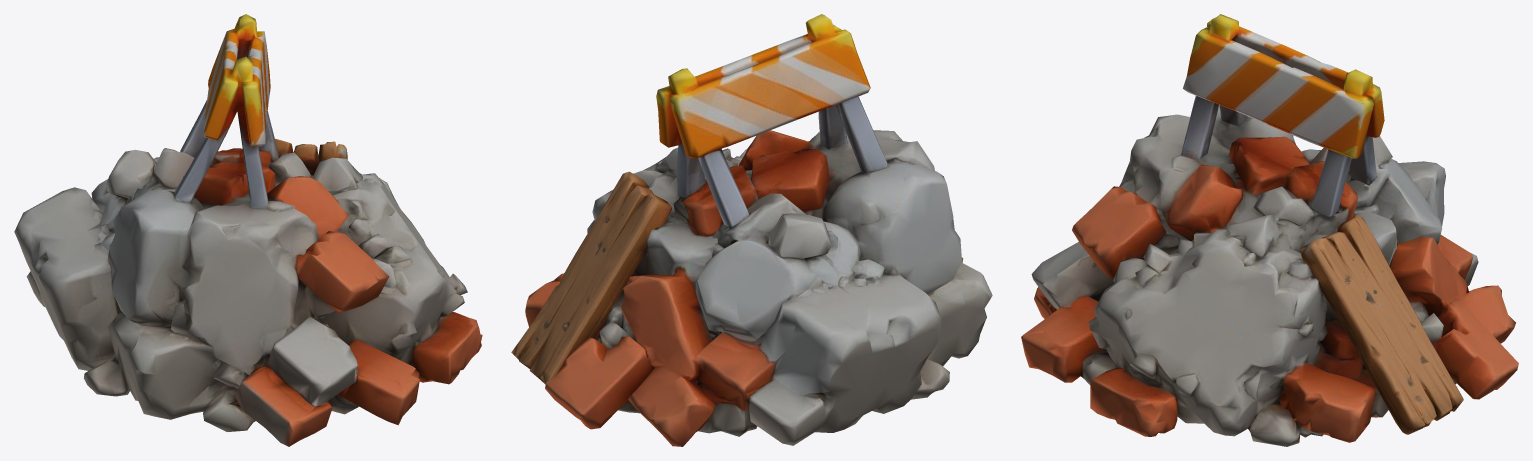
Rendered from ObstaculoEntulho.glb.
3 renders of one model, left to right at view 1: azimuth 30°, elevation 25°; view 2: azimuth 150°, elevation 25°; view 3: azimuth 270°, elevation 25°, orthographic. The views are drawn at different scales.
Parts seen in each view (by area): view 1: tripo_node_bf83aa18-6cd5-41f6-af06-8e012431cf77; view 2: tripo_node_bf83aa18-6cd5-41f6-af06-8e012431cf77; view 3: tripo_node_bf83aa18-6cd5-41f6-af06-8e012431cf77.
Part boxes in pixels (x1,y1,x2,y2): tripo_node_bf83aa18-6cd5-41f6-af06-8e012431cf77: [14, 14, 482, 446]; tripo_node_bf83aa18-6cd5-41f6-af06-8e012431cf77: [511, 14, 992, 446]; tripo_node_bf83aa18-6cd5-41f6-af06-8e012431cf77: [1021, 14, 1518, 446].
Size of the model in its own units: 0.4289 by 0.35 by 0.4813.
Materials: 1 (1 with a texture image).
